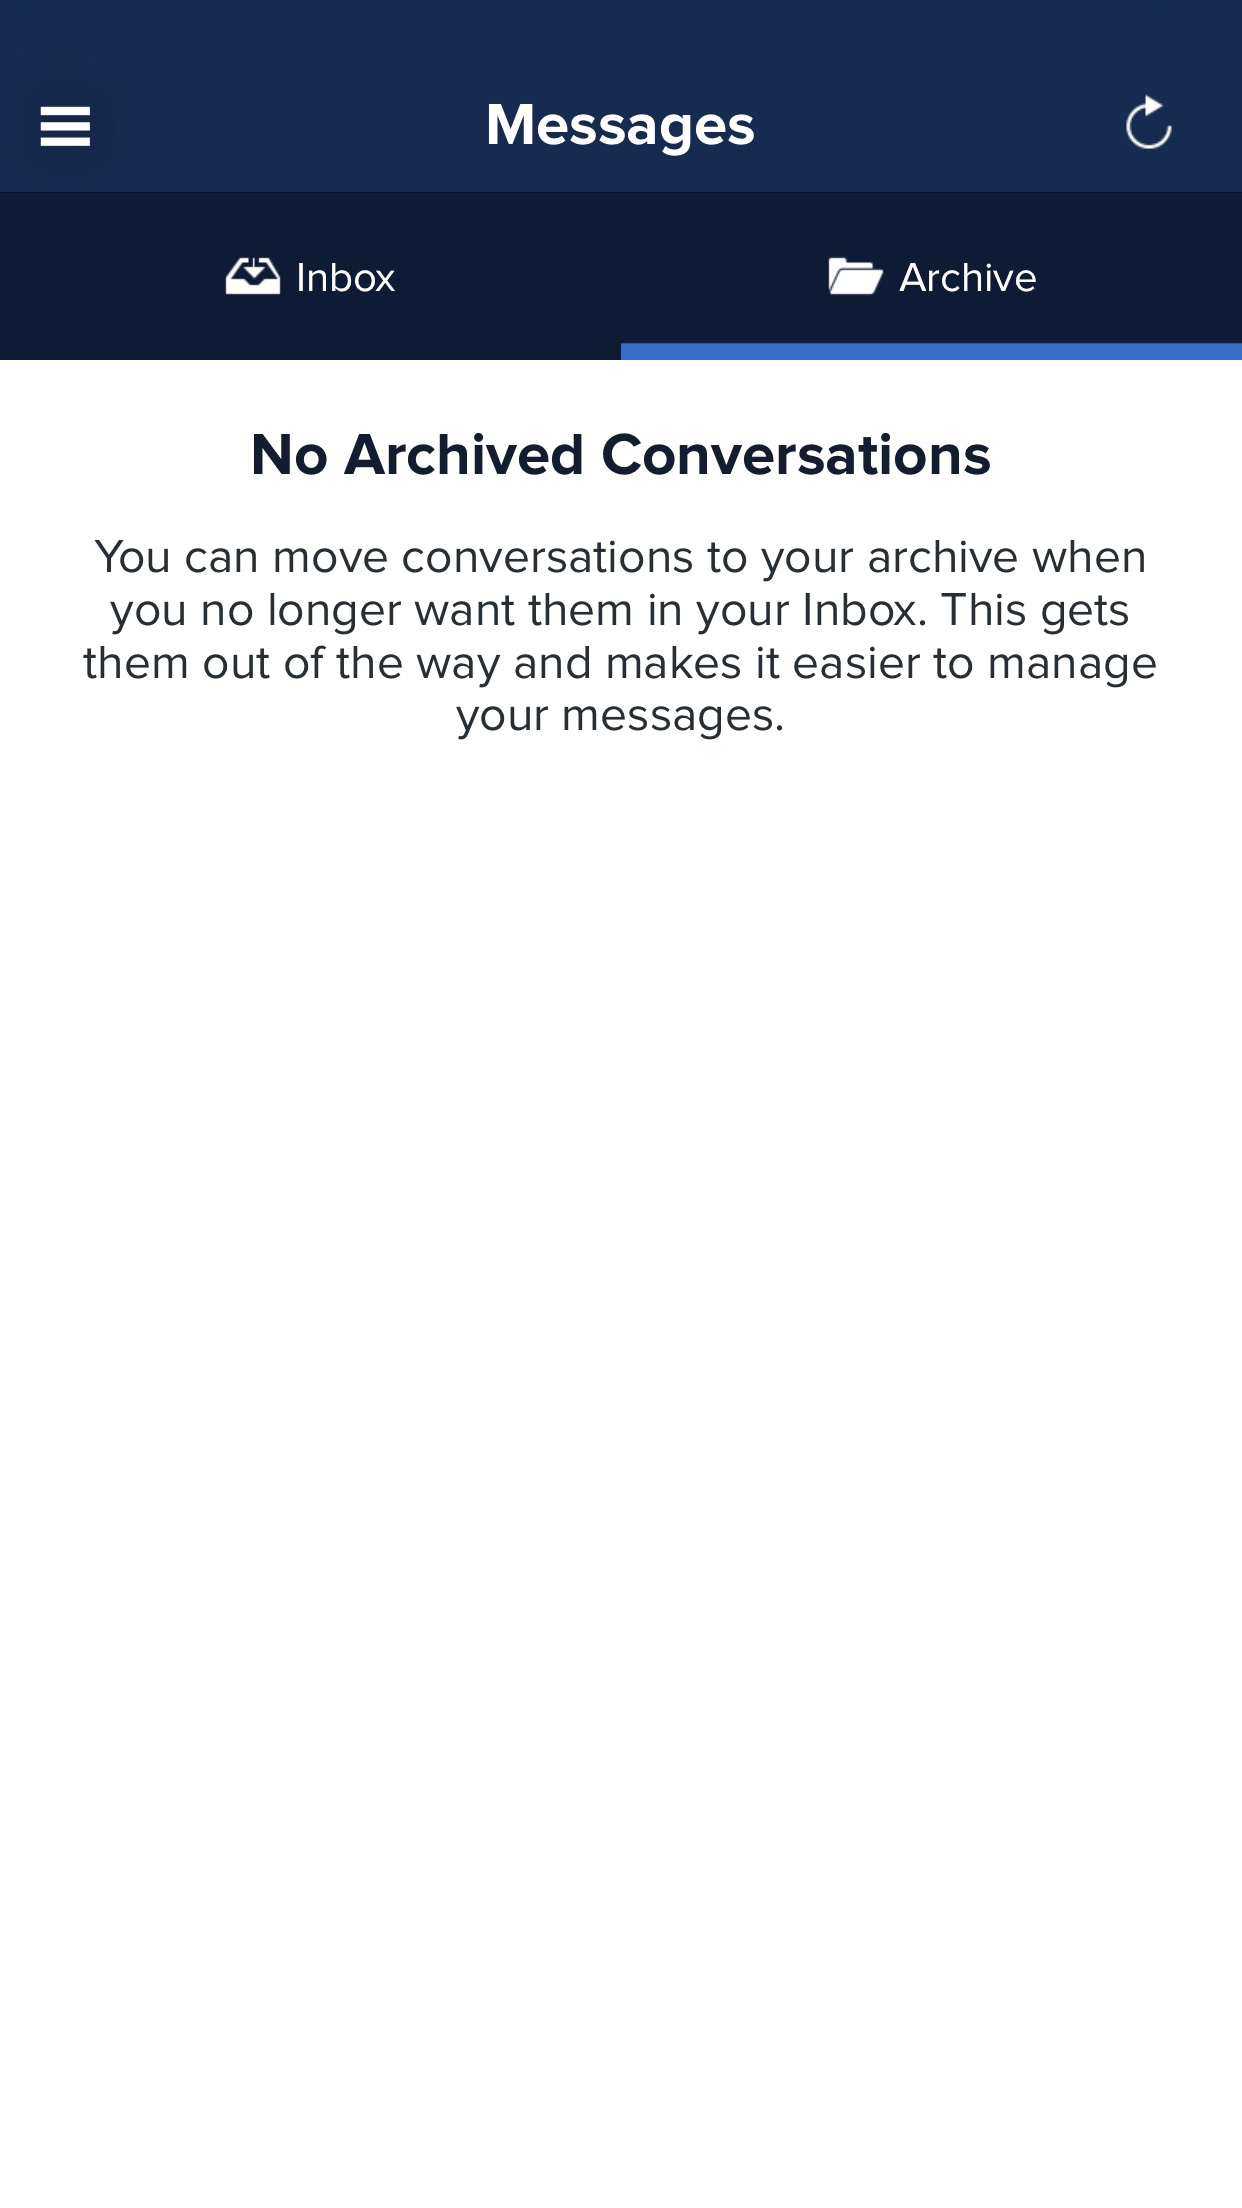Icon: (1125, 94, 1174, 152), (828, 256, 886, 297), (39, 106, 93, 149)
Image: (224, 256, 282, 297)
Text: (83, 540, 1157, 742), (253, 432, 990, 476), (488, 105, 755, 158), (898, 262, 1037, 294), (299, 262, 396, 294)
